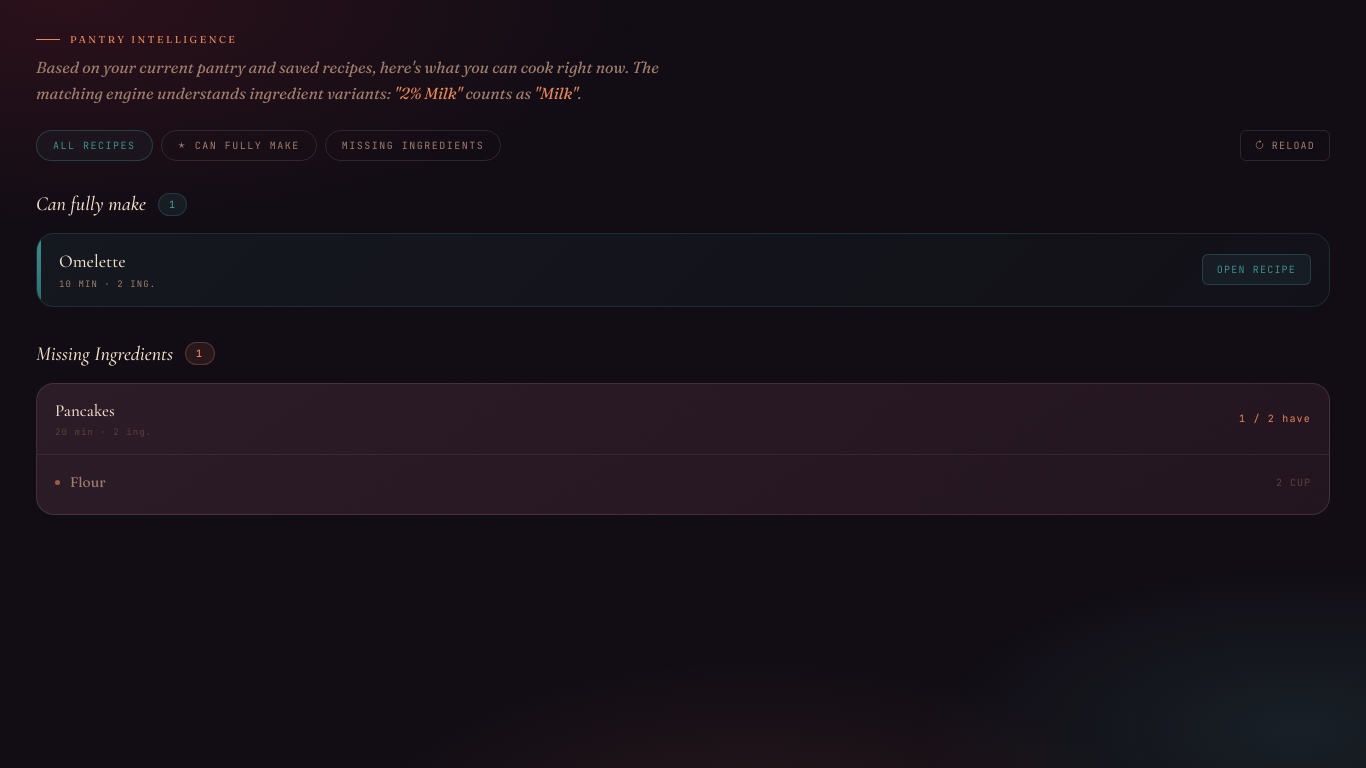
Scenario: filter buttons › clicking "Missing Ingredients" hides the ready section
The image size is (1366, 768).
Click the button "Missing Ingredients": point(413, 146) [325, 130, 501, 161]
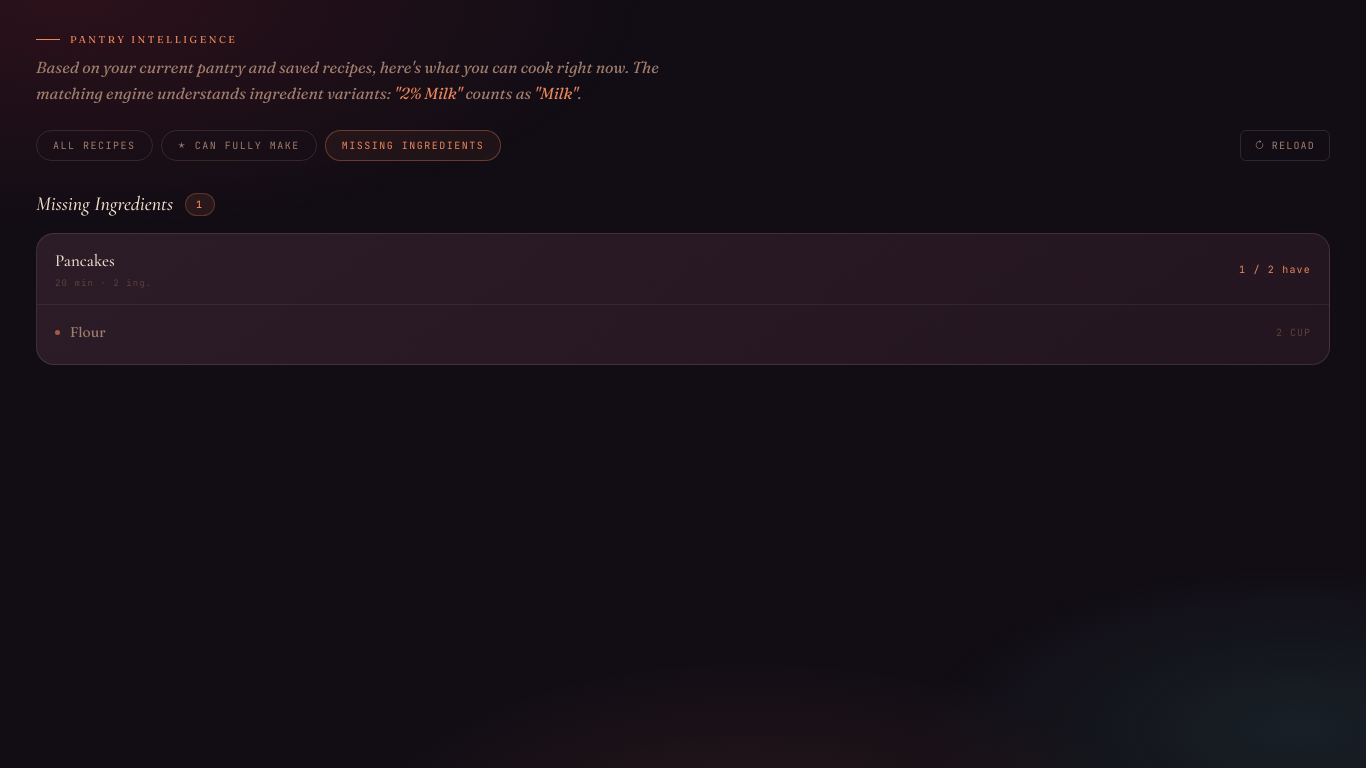
Expected: the element with id "wcim-ready-section" is gone
